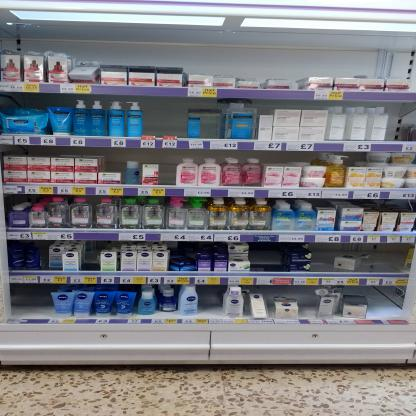Void: (145, 98, 184, 138), (14, 288, 48, 318), (372, 241, 405, 270), (203, 100, 225, 138), (390, 106, 410, 142), (153, 148, 174, 182), (254, 243, 280, 265), (373, 288, 392, 315), (312, 243, 330, 271), (202, 289, 219, 315), (262, 152, 294, 164), (304, 290, 313, 318), (83, 244, 93, 268), (101, 159, 117, 173), (338, 246, 358, 253)
